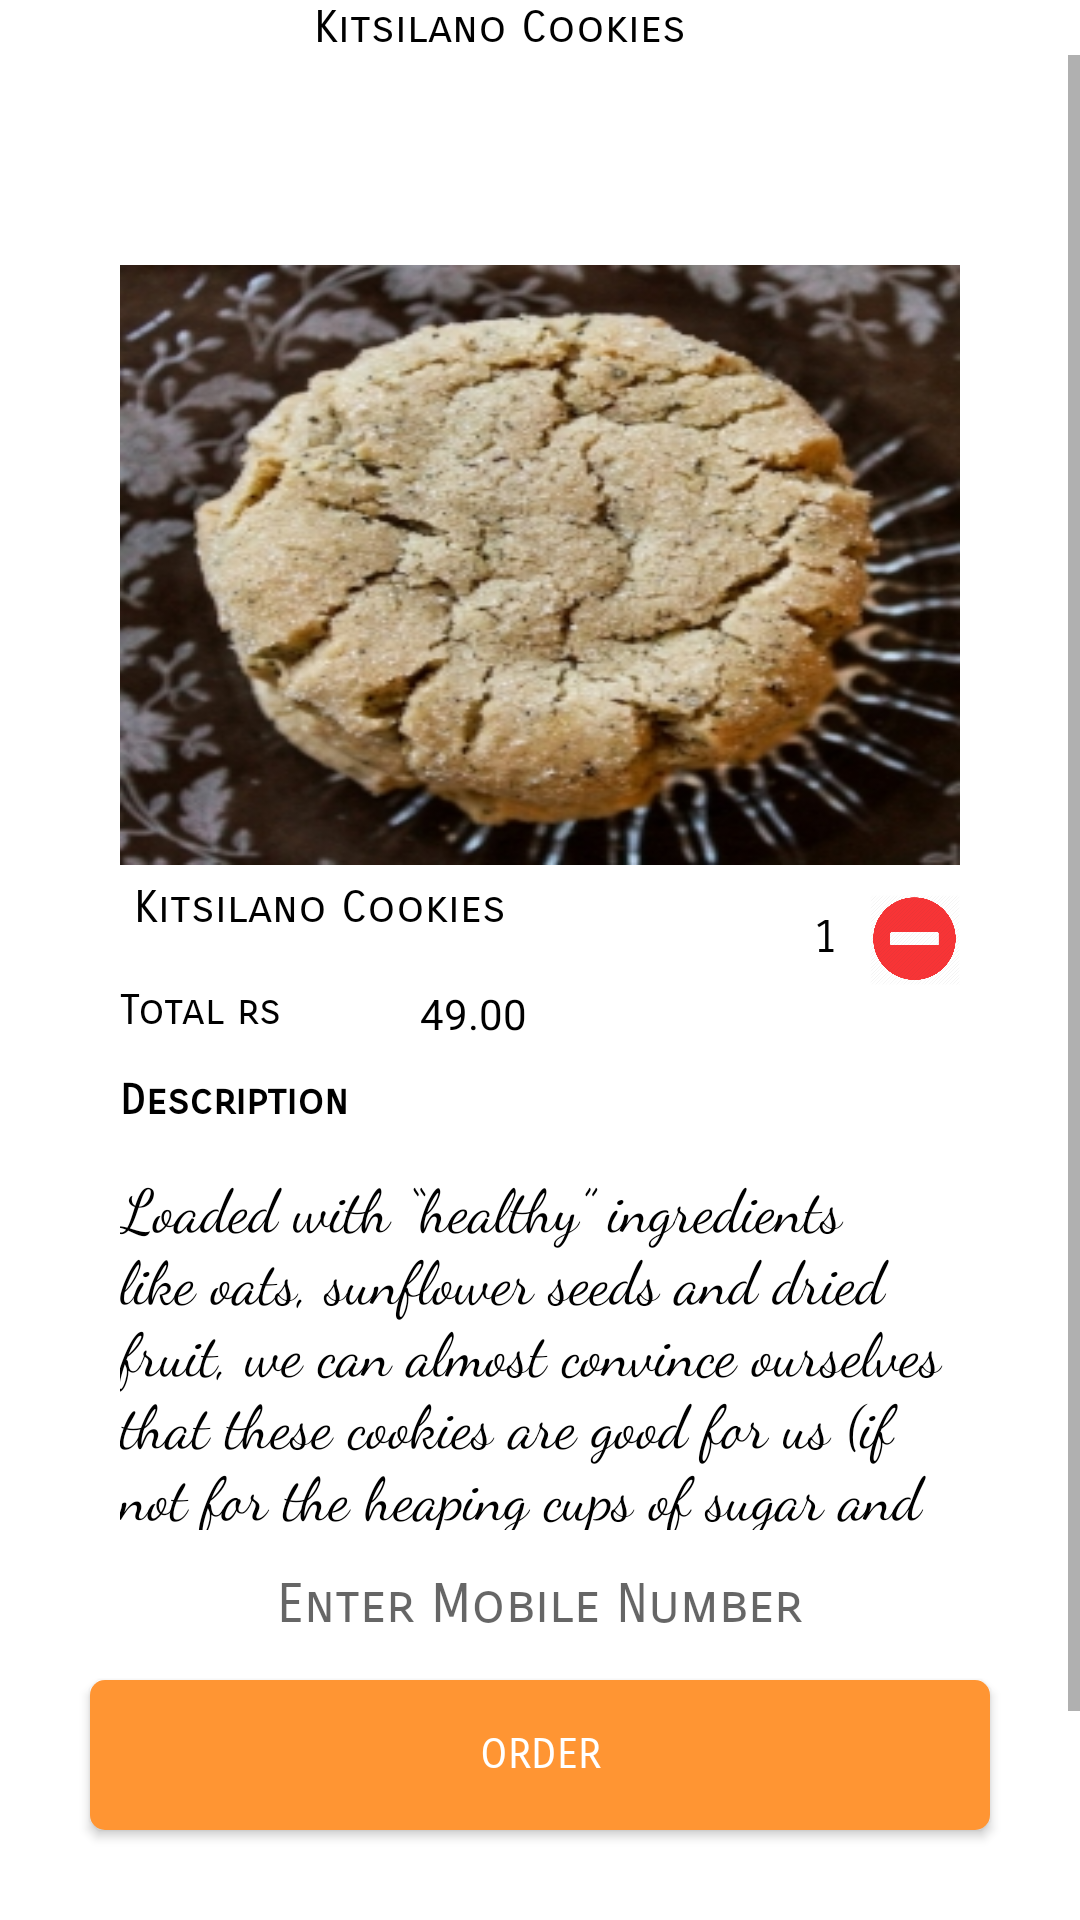

Named icons in this screenshot (1080 × 1920) and their bounding boxes, (x1, y1, x2, y2):
minus: (873, 897, 956, 980)
